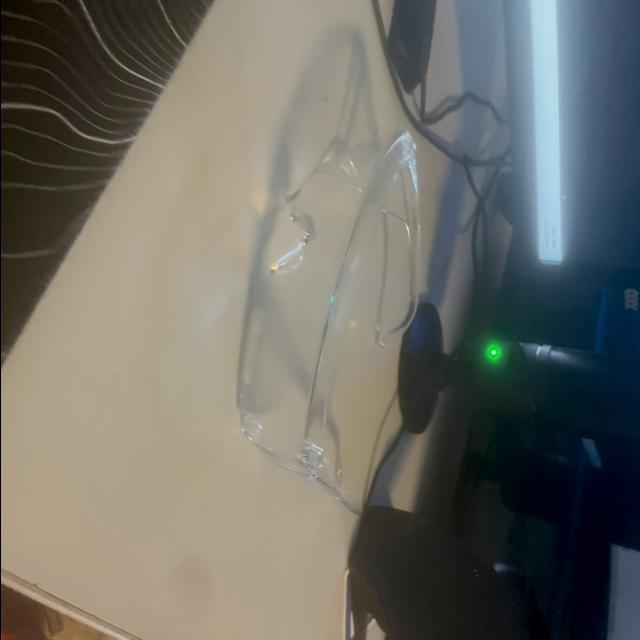Safety Glasses: (226, 111, 424, 529)
